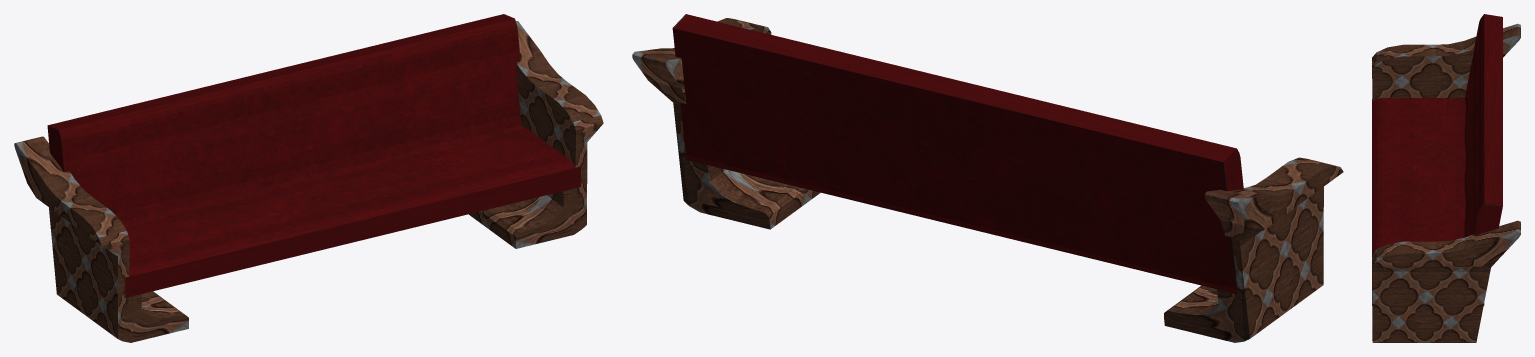
Rendered from cosmic_bench.fbx.
3 renders of one model, left to right at view 1: azimuth 30°, elevation 25°; view 2: azimuth 150°, elevation 25°; view 3: azimuth 270°, elevation 25°, orthographic. The views are drawn at different scales.
Visible parts, largest first — view 1: Cube.002; view 2: Cube.002; view 3: Cube.002.
Part boxes in pixels (<box>): Cube.002: <box>14,14,603,342</box>; Cube.002: <box>632,14,1343,342</box>; Cube.002: <box>1372,14,1520,342</box>.
Bounding box in the file's own units: 440 × 140 × 133.
Materials: 2 (2 with a texture image).
